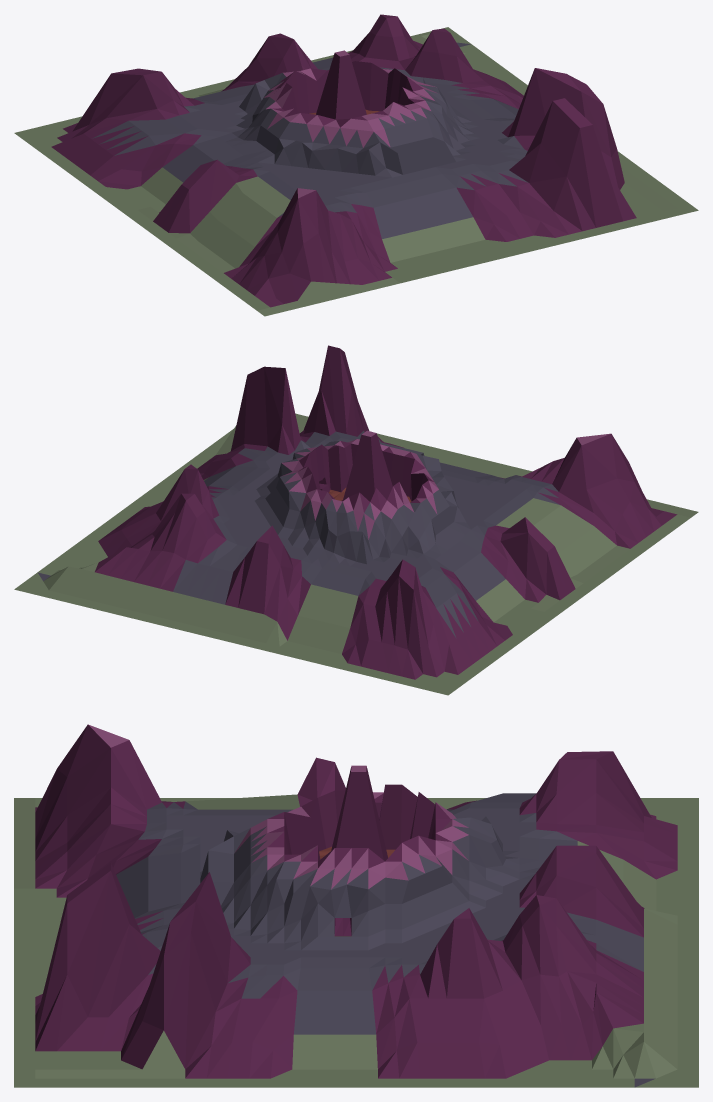
File: lavaIsland.fbx
3 renders of one model, top to bottom at view 1: azimuth 30°, elevation 25°; view 2: azimuth 150°, elevation 25°; view 3: azimuth 270°, elevation 25°, orthographic. The views are drawn at different scales.
Visible parts, largest first — view 1: Plane; view 2: Plane; view 3: Plane.
Part boxes in pixels (<box>): Plane: <box>14,14,698,316</box>; Plane: <box>14,345,698,695</box>; Plane: <box>14,724,698,1087</box>.
Size of the model in its own units: 17.83 by 4.74 by 17.83.
